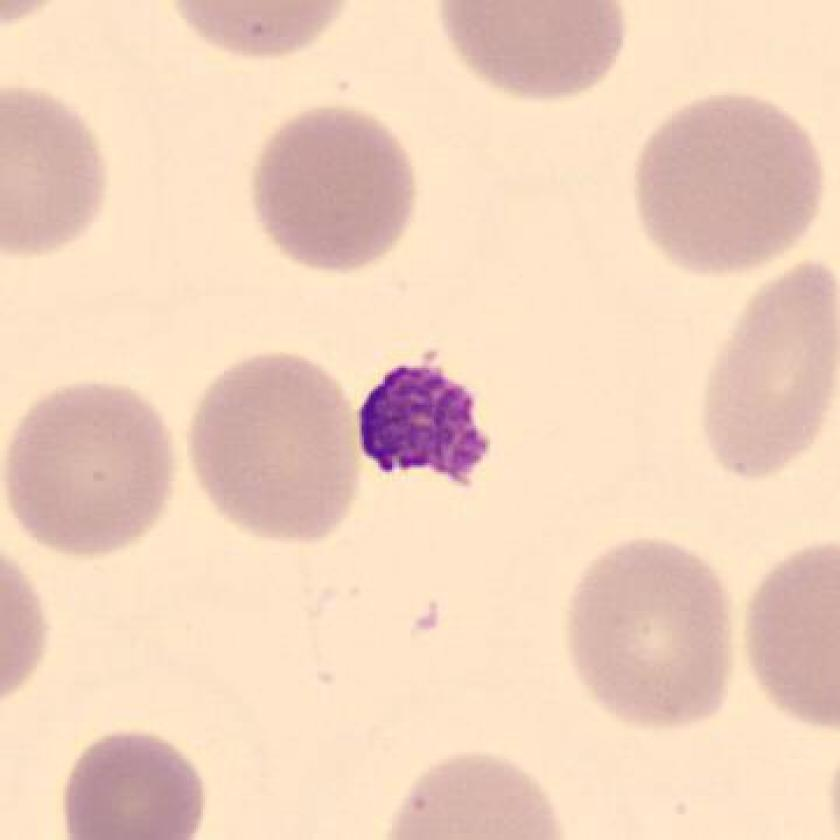platelets: (346, 346, 503, 503)
